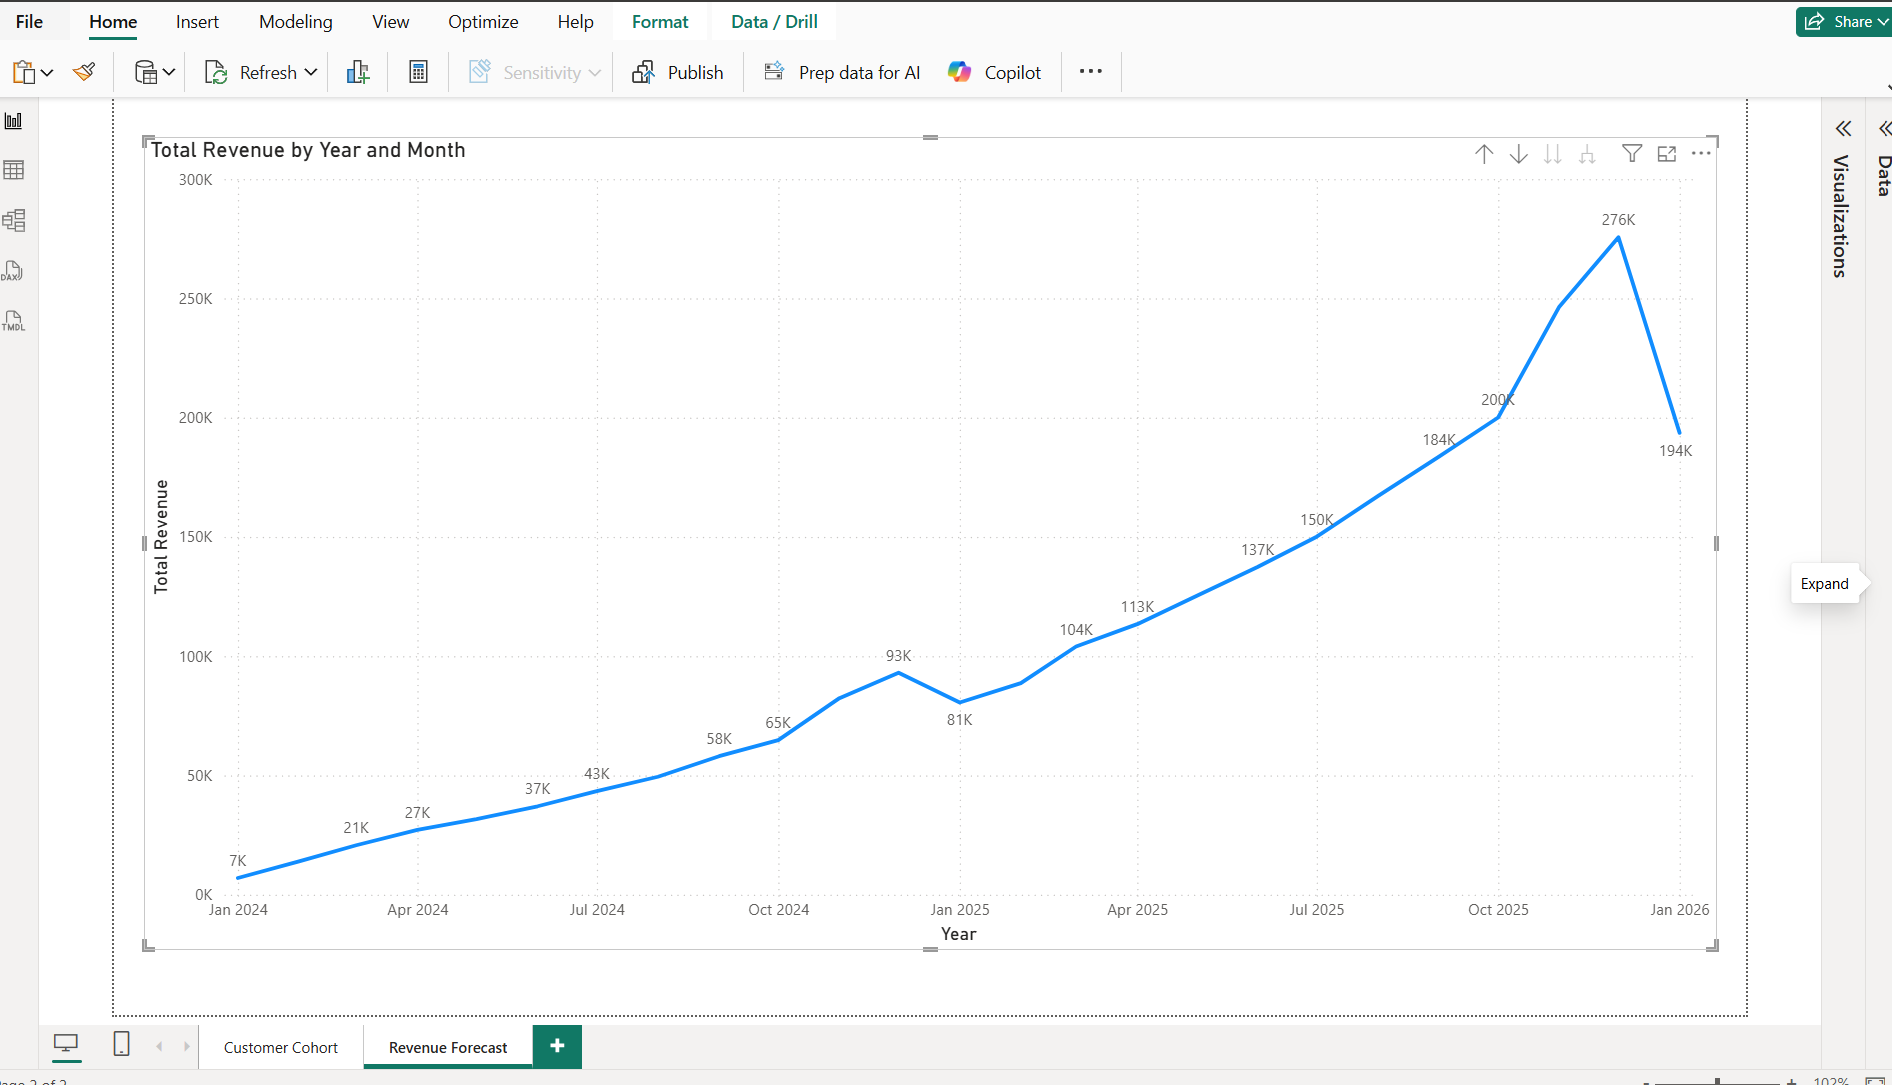

The dashboard page shown, as its layout file describes it:
{"tool":"powerbi","page":{"name":"Revenue Forecast","canvas":[1280,720],"ordinal":1},"visuals":[{"type":"lineChart","fields":{"Category":["dim_date.StartOfMonth.Variation.Date Hierarchy.Year","dim_date.StartOfMonth.Variation.Date Hierarchy.Month"],"Y":["transactions.Total Revenue"]},"box":[23.8,31.7,1233,638],"z":0}]}

Visuals, with their boxes on the page's 1280x720 design canvas (x1, y1, x2, y2). These are canvas units, not pixel positions in the 1892x1085 screenshot, which may show the page scaled, cropped or inside an application window:
lineChart - dim_date.StartOfMonth.Variation.Date Hierarchy.Year x dim_date.StartOfMonth.Variation.Date Hierarchy.Month: box=[24, 32, 1257, 670]
